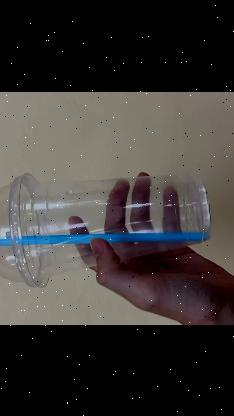Others: (0, 171, 210, 287)
